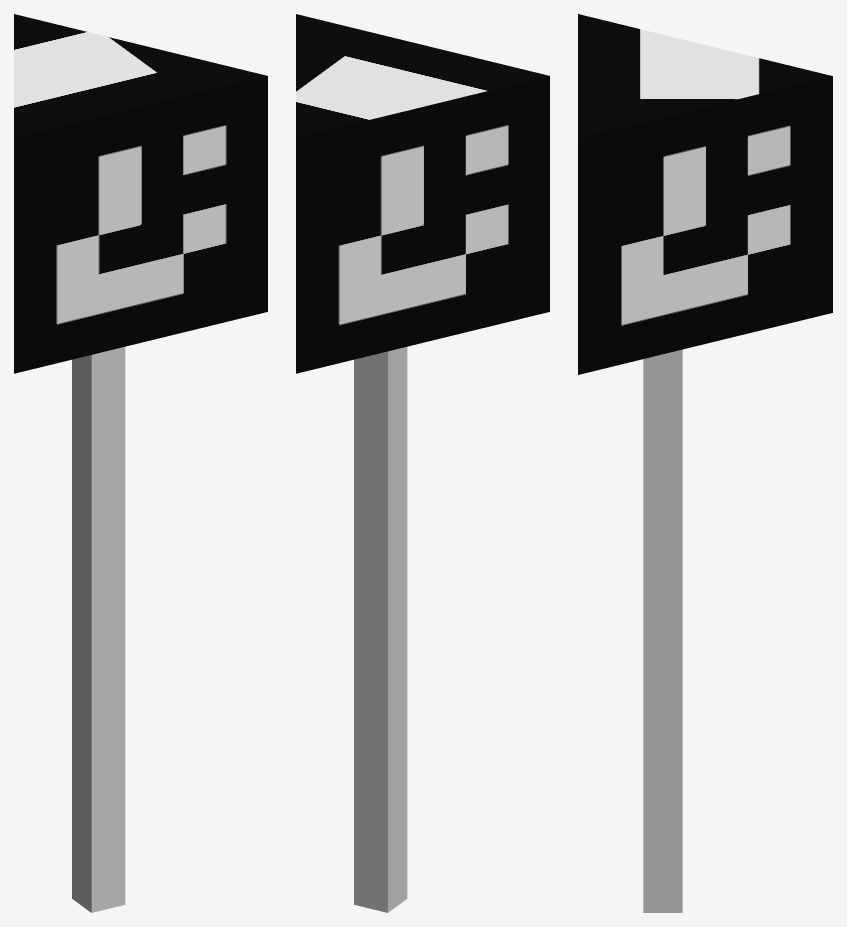
Rendered from aruco_4.dae.
3 views of the same model, side by side, from view 1: azimuth 30°, elevation 25°; view 2: azimuth 150°, elevation 25°; view 3: azimuth 270°, elevation 25° (orthographic).
Parts seen in each view (by area): view 1: Cylinder.001; view 2: Cylinder.001; view 3: Cylinder.001.
Boxes of the visible parts, x1,y1,x2,y2 form: Cylinder.001: (14, 14, 267, 912); Cylinder.001: (296, 14, 549, 912); Cylinder.001: (578, 14, 832, 912).
Size of the model in its own units: 0.2252 by 0.195 by 0.7.
Materials: 2 (1 with a texture image).
